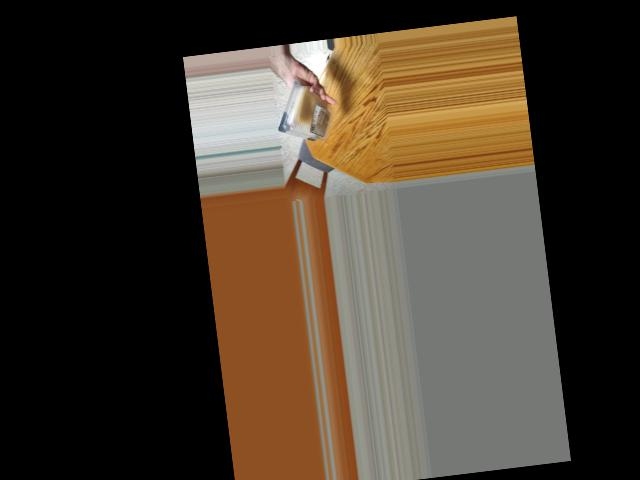cheese: (281, 82, 330, 144)
